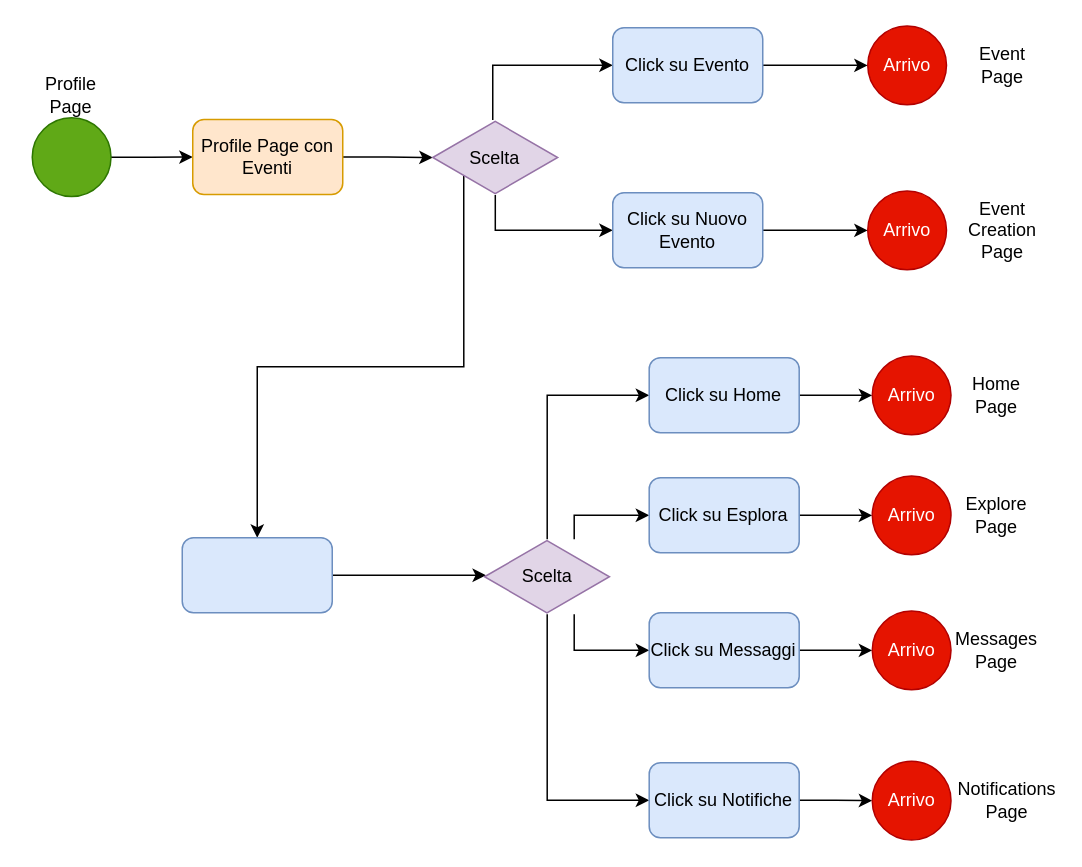
Image size: 1082x867. Some labels were removed from this diagram. The centre of each missing label's shape, as x and y in pixels:
Focus su Navigatoin List: the point at 256,574
Inizio: the point at 71,156
